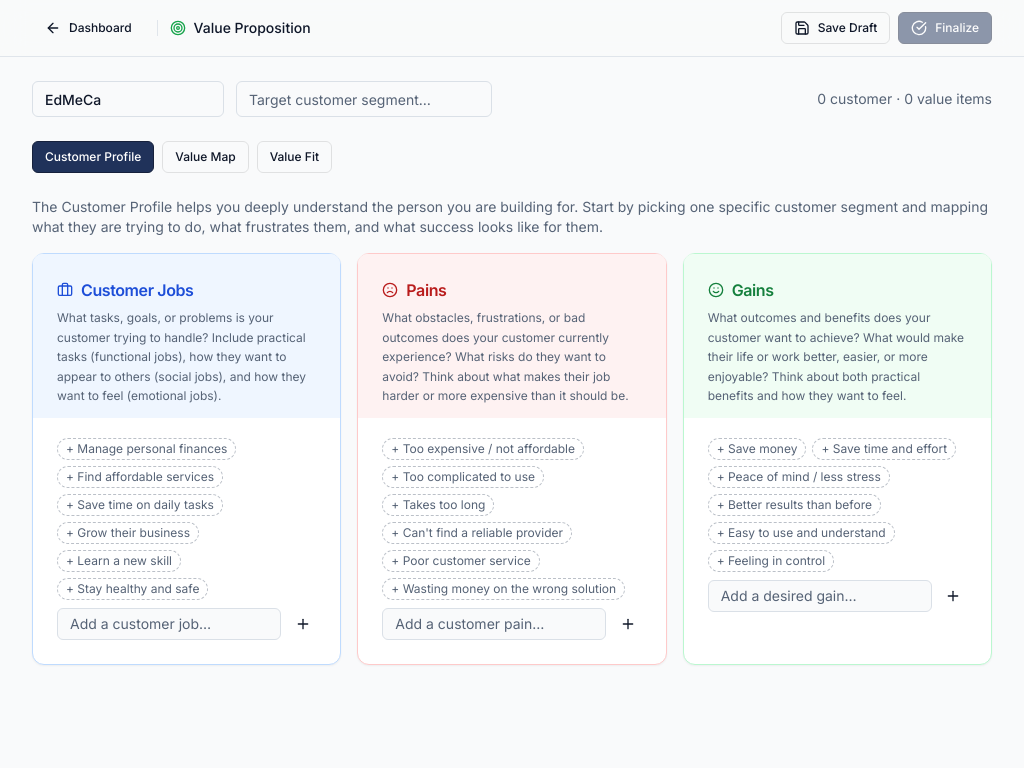
Test: ValuePropTool › can add an item to Gain Creators in Value Map
This screenshot has width=1024, height=768.
Click the button with test id "button-tab-value" at (206, 157), box x1=162 y1=141 x2=249 y2=173
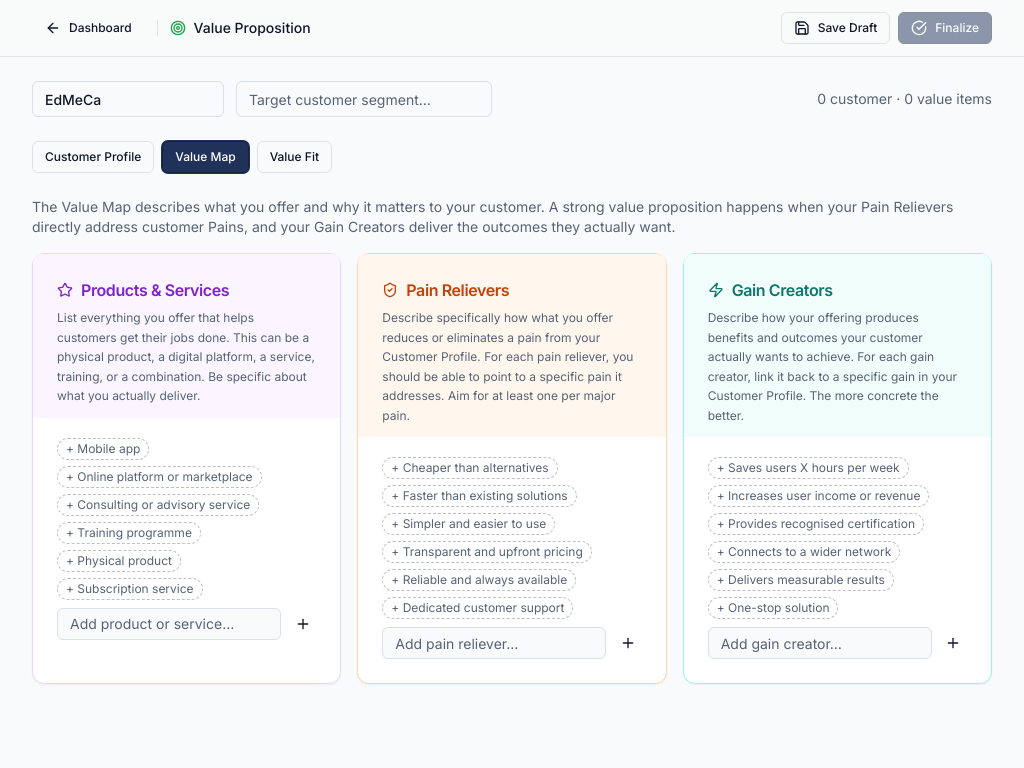
Check: the text "Gain Creators" is shown, box x1=708 y1=280 x2=833 y2=300
Type "Saves 5 hours per week" into the field with placeholder "Add gain creator…" at (820, 643), box x1=708 y1=627 x2=932 y2=659
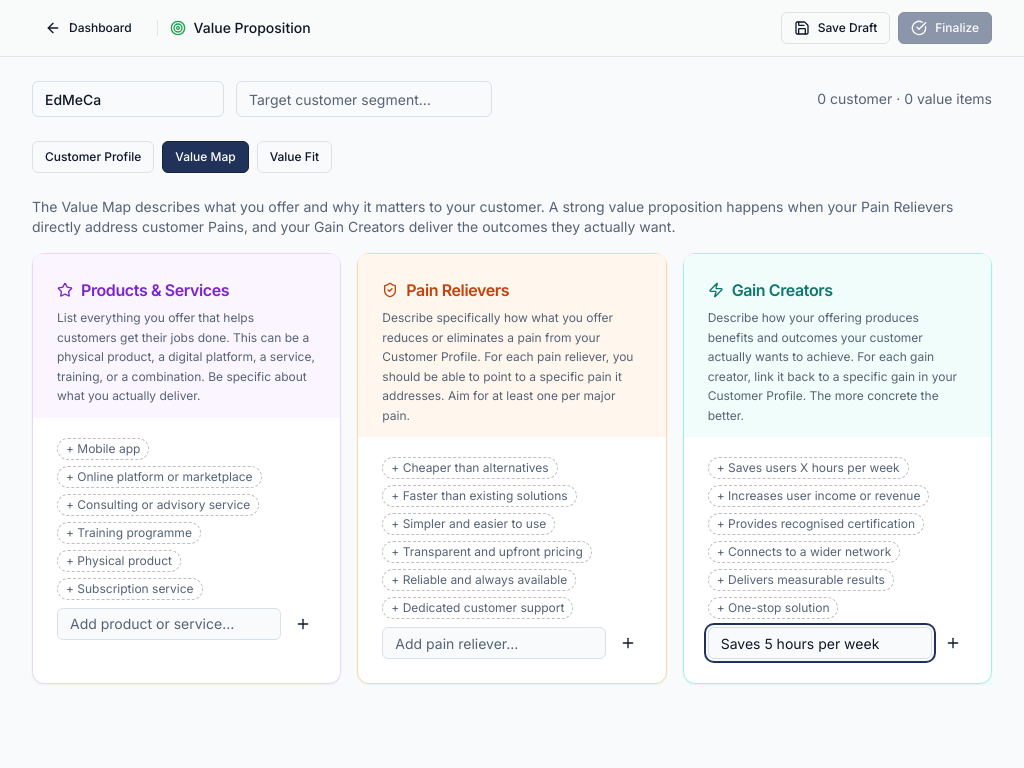
Press Enter
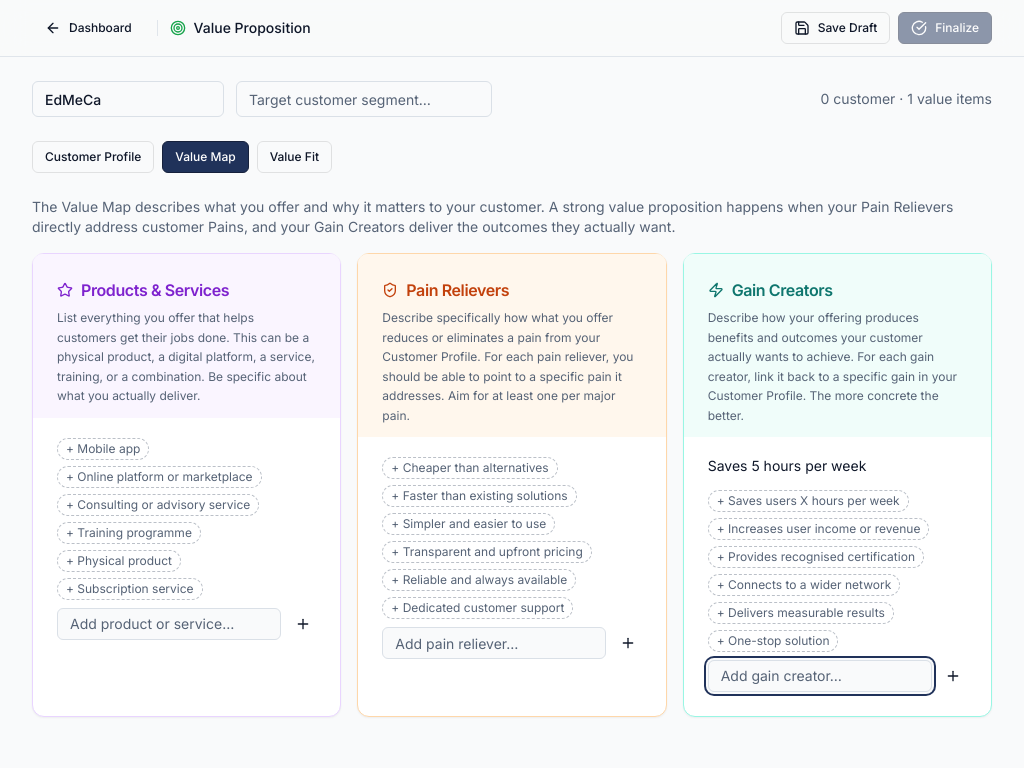
Check: the text "Saves 5 hours per week" is shown, box x1=708 y1=457 x2=866 y2=474
